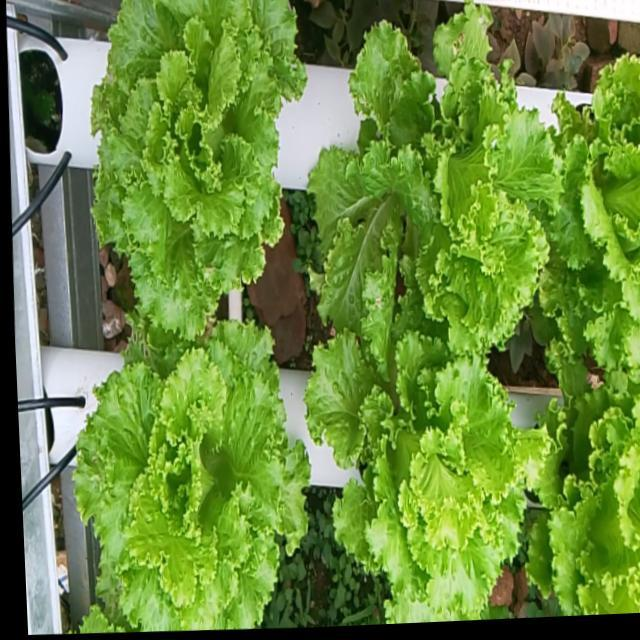Mature: (41, 299, 292, 634), (293, 8, 535, 351), (287, 283, 518, 623), (81, 0, 292, 322), (520, 69, 640, 365), (501, 362, 640, 617)
